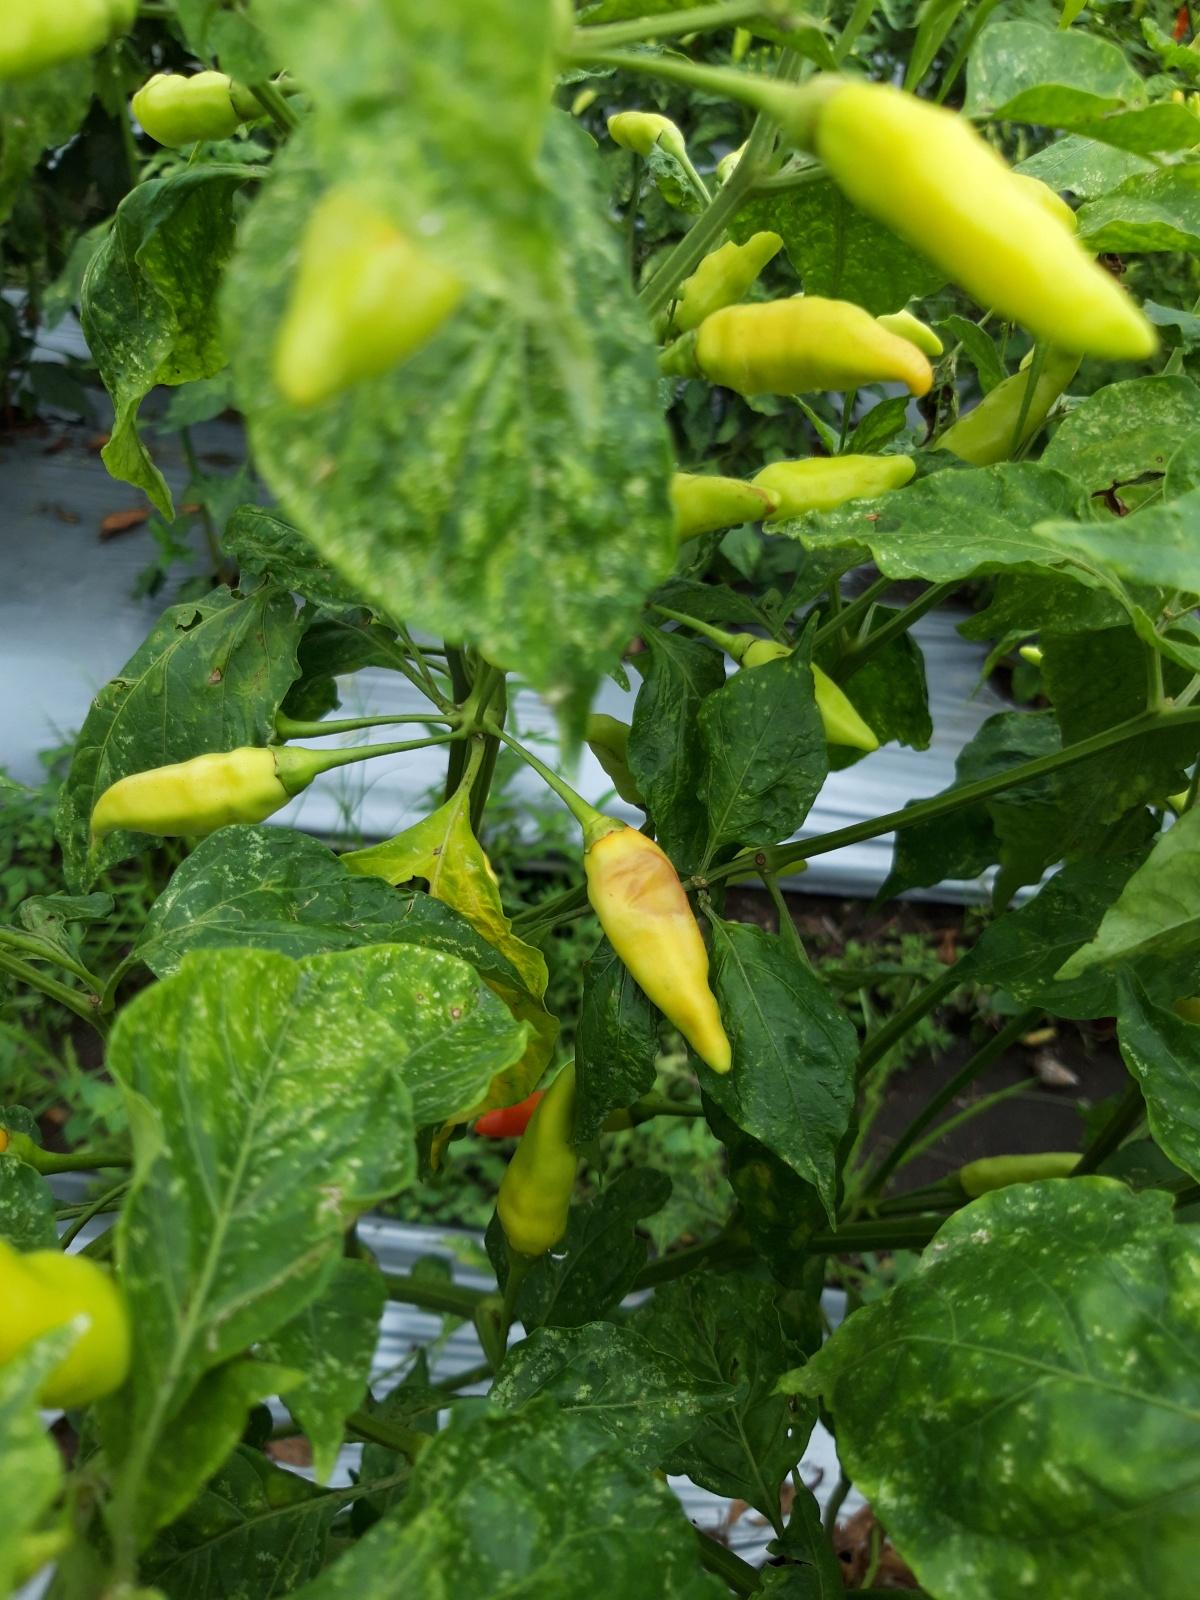cabai_normal: (792, 68, 1160, 368), (581, 813, 734, 1075), (672, 296, 932, 401), (89, 743, 319, 840), (730, 630, 881, 752), (495, 1060, 587, 1257), (661, 229, 784, 339), (134, 73, 262, 149), (747, 454, 919, 504), (605, 111, 686, 160)
